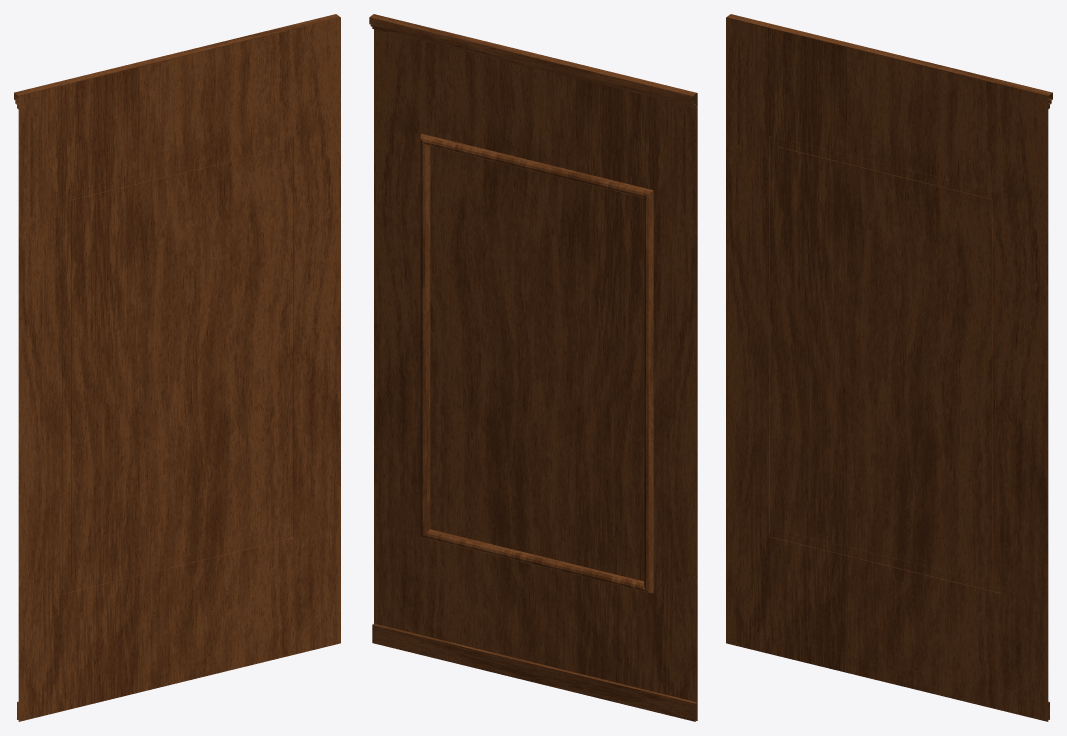
File: ARC0110033.fbx
3 views of the same model, side by side, from view 1: azimuth 30°, elevation 25°; view 2: azimuth 150°, elevation 25°; view 3: azimuth 330°, elevation 25° (orthographic).
Visible parts, largest first — view 1: smARC0110033; view 2: smARC0110033; view 3: smARC0110033.
Part boxes in pixels (x1,y1,x2,y2): smARC0110033: (14,14,340,721); smARC0110033: (369,14,697,721); smARC0110033: (726,14,1052,721).
Bounding box in the file's own units: 209 × 389 × 5.52.
Materials: 1 (1 with a texture image).
